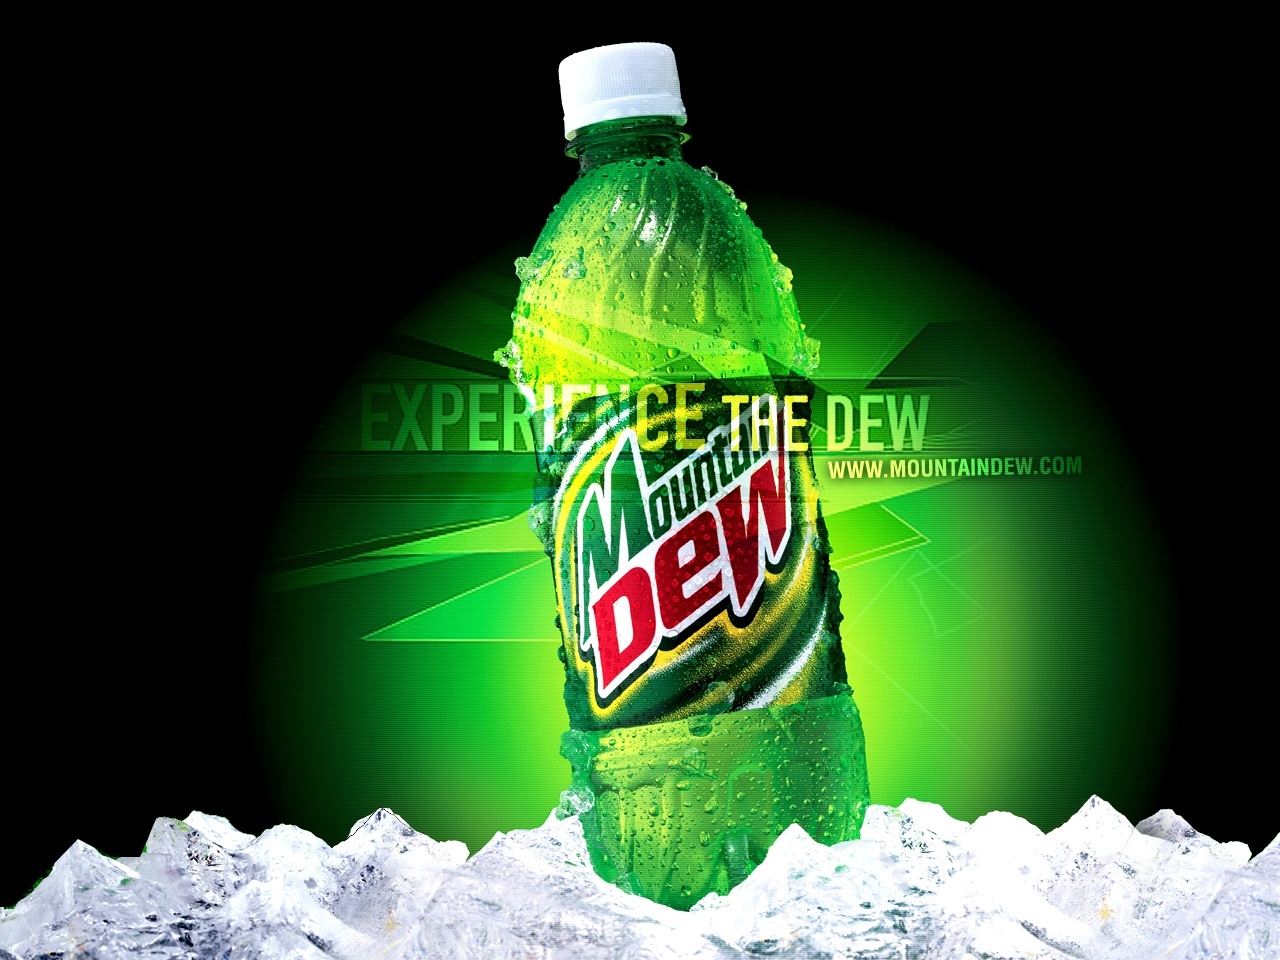grozi_105: (508, 0, 890, 912)
